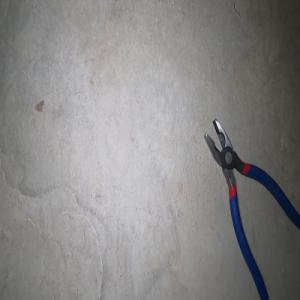Pliers: (203, 118, 300, 300)
